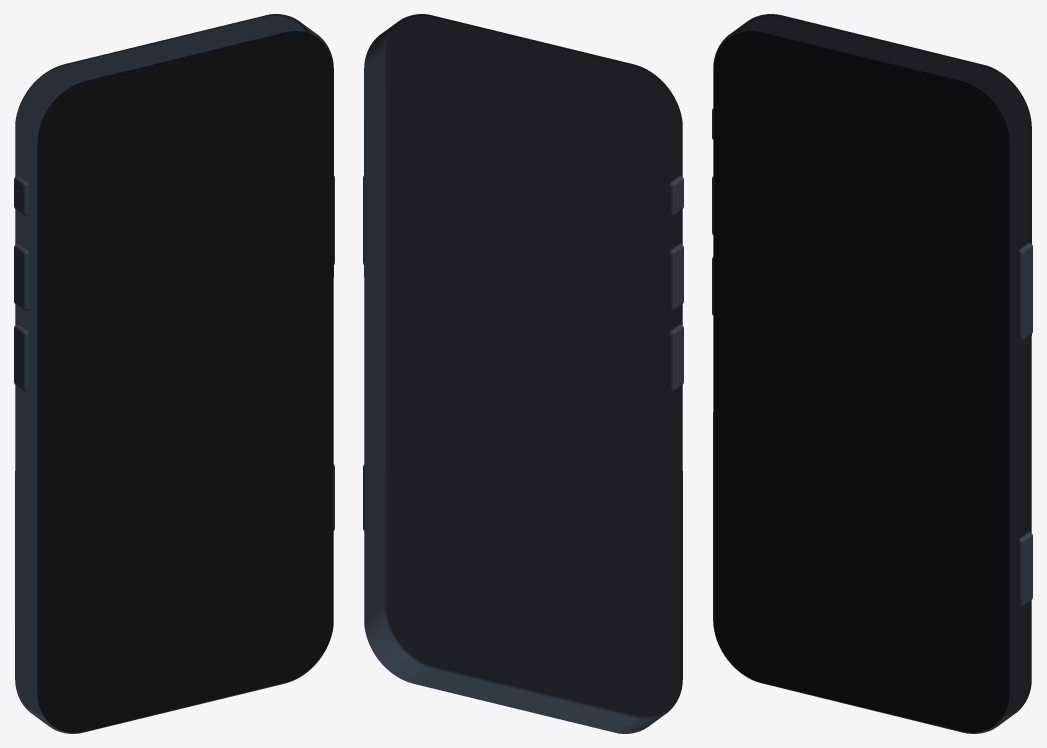
Rendered from c2-phone.glb.
3 views of the same model, side by side, from view 1: azimuth 30°, elevation 25°; view 2: azimuth 150°, elevation 25°; view 3: azimuth 330°, elevation 25° (orthographic).
Visible parts, largest first — view 1: Screen, iPhone17ProFrame, FrontGlass, DynamicIsland, VolumeUpButton, VolumeDownButton; view 2: iPhone17ProFrame, VolumeUpButton, VolumeDownButton; view 3: Screen, iPhone17ProFrame, FrontGlass, DynamicIsland, PowerButton, CameraControl.
Boxes of the visible parts, left/top/right/bottom form: Screen: left=47, top=42, right=324, bottom=722; iPhone17ProFrame: left=15, top=14, right=333, bottom=733; FrontGlass: left=37, top=31, right=333, bottom=732; DynamicIsland: left=145, top=73, right=226, bottom=112; VolumeUpButton: left=14, top=244, right=28, bottom=310; VolumeDownButton: left=14, top=324, right=28, bottom=391; iPhone17ProFrame: left=364, top=14, right=682, bottom=733; VolumeUpButton: left=669, top=244, right=683, bottom=310; VolumeDownButton: left=669, top=324, right=683, bottom=391; Screen: left=722, top=42, right=999, bottom=722; iPhone17ProFrame: left=713, top=14, right=1031, bottom=733; FrontGlass: left=713, top=31, right=1009, bottom=732; DynamicIsland: left=820, top=73, right=901, bottom=112; PowerButton: left=1018, top=243, right=1032, bottom=340; CameraControl: left=1018, top=532, right=1032, bottom=606.
Bounding box in the file's own units: 3.36 × 6.75 × 0.4148.
